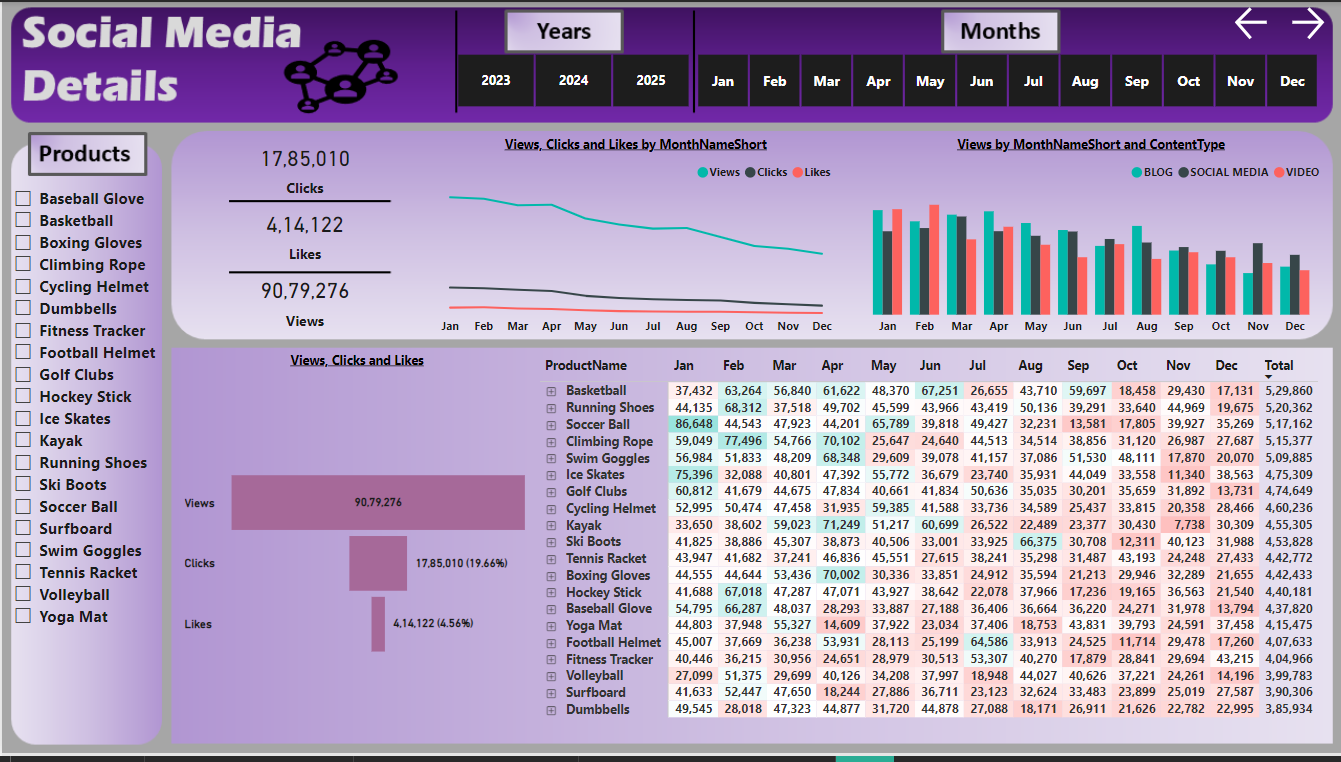

Layout of this report page (visuals, bound fields, positions):
{"tool":"powerbi","page":{"name":"Social Media Details","canvas":[1280,720],"ordinal":2},"visuals":[{"type":"slicer","fields":{"Values":["dim_products.ProductName"]},"box":[0,170.8,159.4,509.1],"z":1000},{"type":"lineChart","fields":{"Y":["_Calculations.Views","_Calculations.Clicks","_Calculations.Likes"],"Category":["Calendar.MonthNameShort"]},"box":[409.2,127.5,390.9,198.8],"z":2000},{"type":"funnel","fields":{"Y":["_Calculations.Views","_Calculations.Clicks","_Calculations.Likes"]},"box":[169.2,333.4,339.9,387.1],"z":3000},{"type":"card","fields":{"Values":["_Calculations.Views"]},"box":[185.4,253.7,208.2,61.8],"z":4000},{"type":"card","fields":{"Values":["_Calculations.Clicks"]},"box":[185.4,126.9,208.2,60.2],"z":5000},{"type":"card","fields":{"Values":["_Calculations.Likes"]},"box":[185.4,187.1,208.2,66.7],"z":6000},{"type":"slicer","fields":{"Values":["Calendar.MonthNameShort"]},"box":[639.2,42.3,640.9,63.4],"z":7000},{"type":"slicer","fields":{"Values":["Calendar.Year"]},"box":[409.9,42.3,270,63.4],"z":8000},{"type":"pivotTable","fields":{"Rows":["dim_products.ProductName","fact_engagement.ContentType"],"Values":["_Calculations.Views"],"Columns":["Calendar.MonthNameShort"]},"box":[509.1,333.4,758,369.2],"z":9000},{"type":"clusteredColumnChart","fields":{"Category":["Calendar.MonthNameShort"],"Series":["fact_engagement.ContentType"],"Y":["_Calculations.Views"]},"box":[811.7,127.5,455.5,198.8],"z":10000},{"type":"actionButton","box":[1226.3,0,53.7,40.7],"z":10001},{"type":"actionButton","box":[1172.7,0,53.7,40.7],"z":10002}]}

Visuals, with their boxes in screenshot pixels (x1, y1, x2, y2), scaled from the page's 1280x720 canvas onto the 1341x762 screenshot:
slicer - dim_products.ProductName: crop(0, 181, 167, 720)
lineChart - _Calculations.Views x _Calculations.Clicks: crop(429, 135, 838, 345)
funnel - _Calculations.Views x _Calculations.Clicks: crop(177, 353, 533, 761)
card - _Calculations.Views: crop(194, 268, 412, 334)
card - _Calculations.Clicks: crop(194, 134, 412, 198)
card - _Calculations.Likes: crop(194, 198, 412, 269)
slicer - Calendar.MonthNameShort: crop(670, 45, 1340, 112)
slicer - Calendar.Year: crop(429, 45, 712, 112)
pivotTable - dim_products.ProductName x fact_engagement.ContentType: crop(533, 353, 1327, 744)
clusteredColumnChart - Calendar.MonthNameShort x fact_engagement.ContentType: crop(850, 135, 1328, 345)
actionButton: crop(1285, 0, 1340, 43)
actionButton: crop(1229, 0, 1285, 43)
